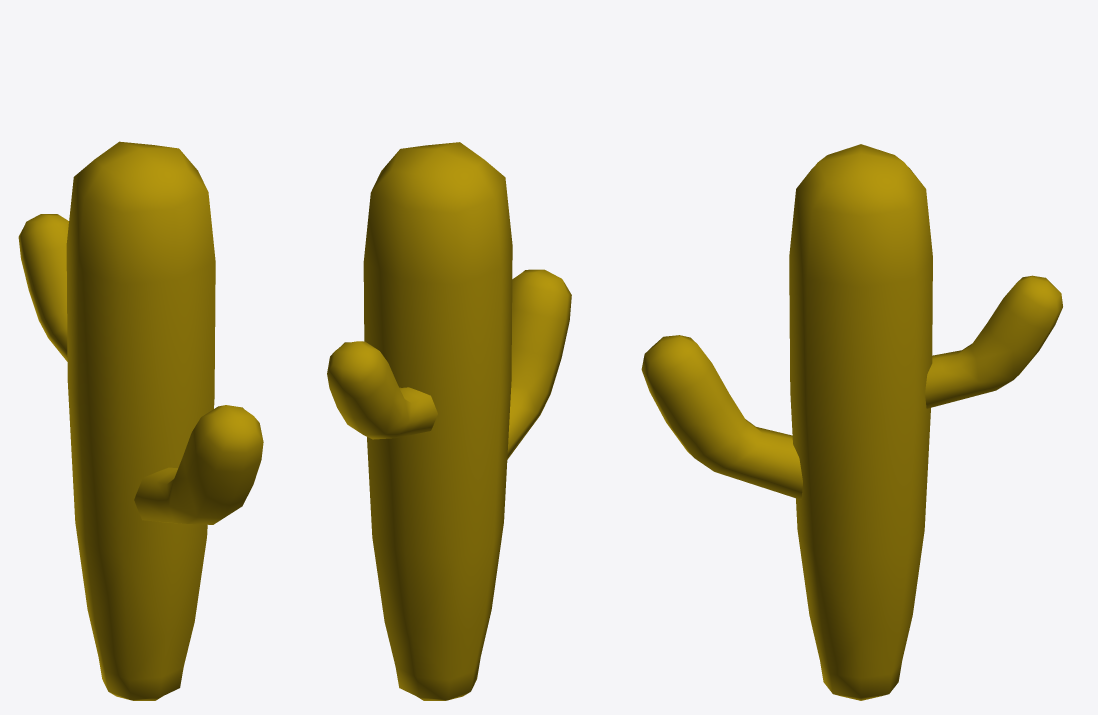
Rendered from Cactus_4.fbx.
3 renders of one model, left to right at view 1: azimuth 30°, elevation 25°; view 2: azimuth 150°, elevation 25°; view 3: azimuth 270°, elevation 25°, orthographic.
Visible parts, largest first — view 1: CactusFlowers_3; view 2: CactusFlowers_3; view 3: CactusFlowers_3.
Part boxes in pixels (x1,y1,x2,y2): CactusFlowers_3: (18,141,263,700); CactusFlowers_3: (327,142,571,700); CactusFlowers_3: (641,144,1062,700).
Bounding box in the file's own units: 47.74 × 167 × 112.
